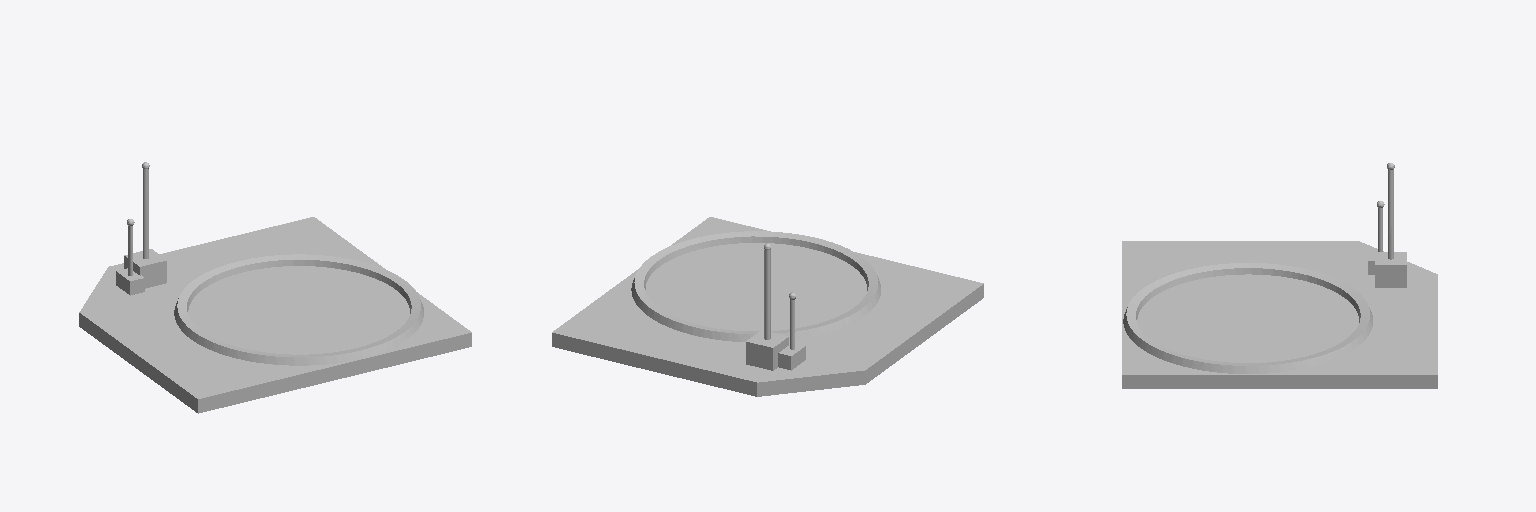
Rendered from pressure_pad.obj.
3 views of the same model, side by side, from view 1: azimuth 30°, elevation 25°; view 2: azimuth 150°, elevation 25°; view 3: azimuth 270°, elevation 25° (orthographic).
Parts seen in each view (by area): view 1: Housing_Cube; view 2: Housing_Cube; view 3: Housing_Cube.
Part boxes in pixels (left/top/right/bottom): Housing_Cube: left=79, top=162, right=471, bottom=413; Housing_Cube: left=552, top=217, right=983, bottom=396; Housing_Cube: left=1122, top=163, right=1437, bottom=388.
Size of the model in its own units: 2 by 0.9249 by 2.